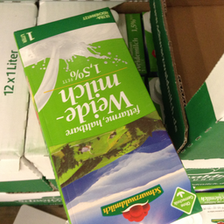milk: (10, 6, 202, 224)
